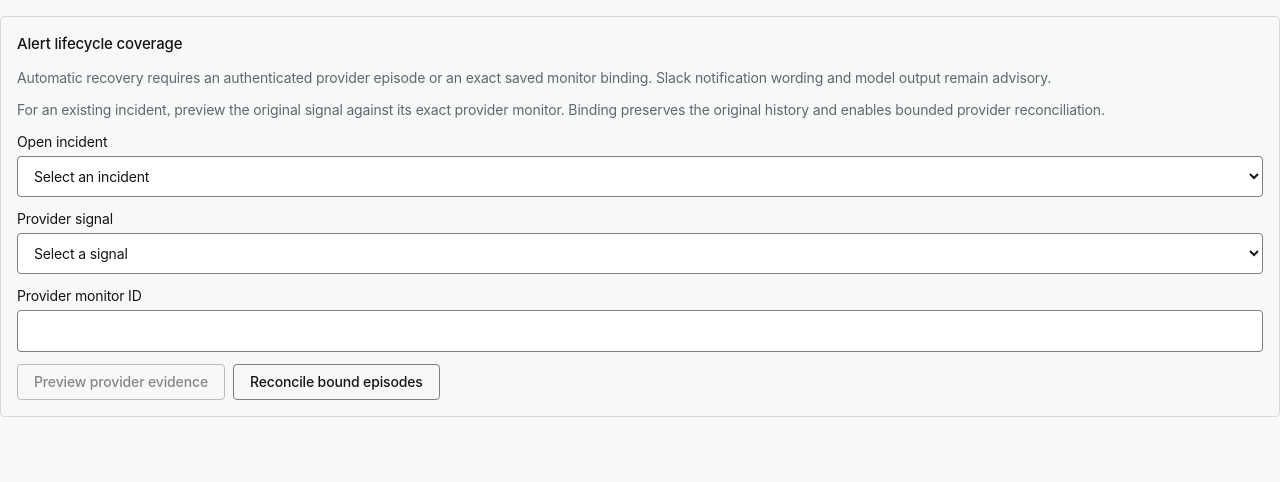
a failed signal load offers a retry that reloads the same incident
Select "Checkout timeout (sev2)" in the dropdown labelled "Open incident": [640, 176] box 17,156 -> 1263,196
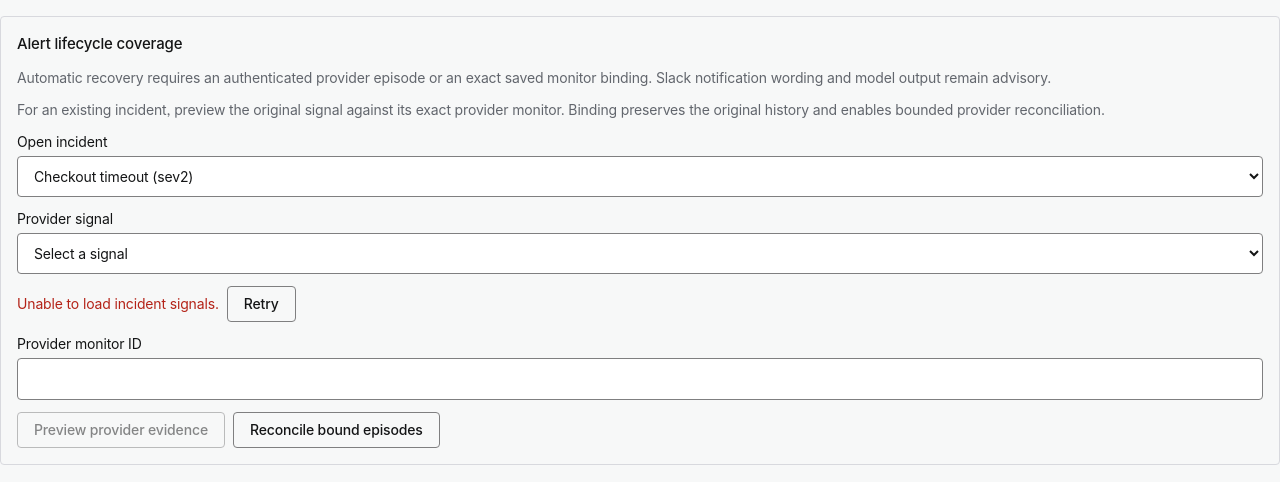
Result: the message shows "Unable to load incident signals." at 17,294 -> 219,312
Click the button "Retry": [261, 304] box 227,286 -> 296,322
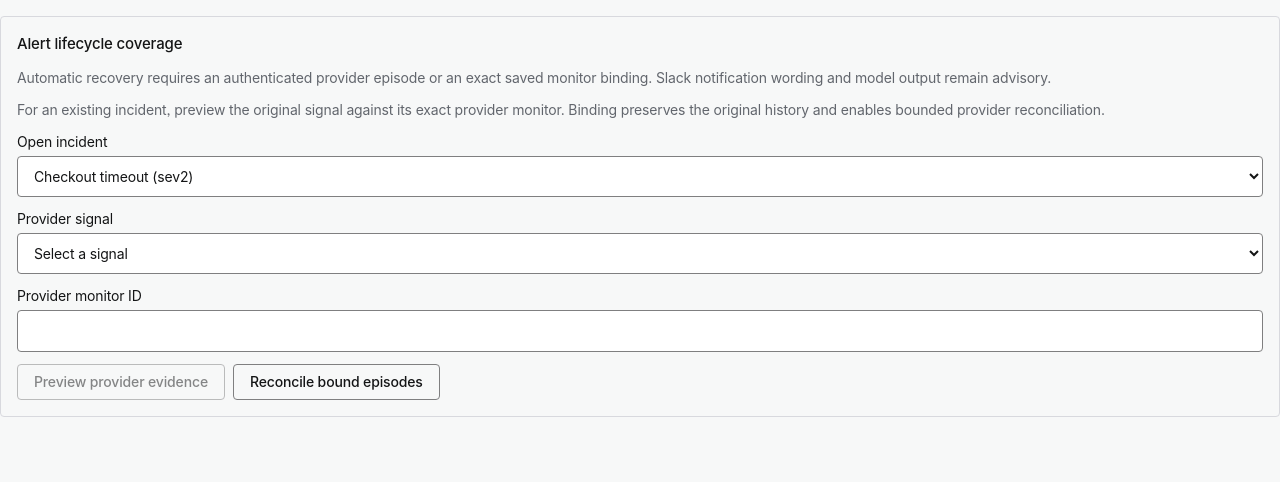
Result: the message "Unable to load incident signals. Retry" is gone
